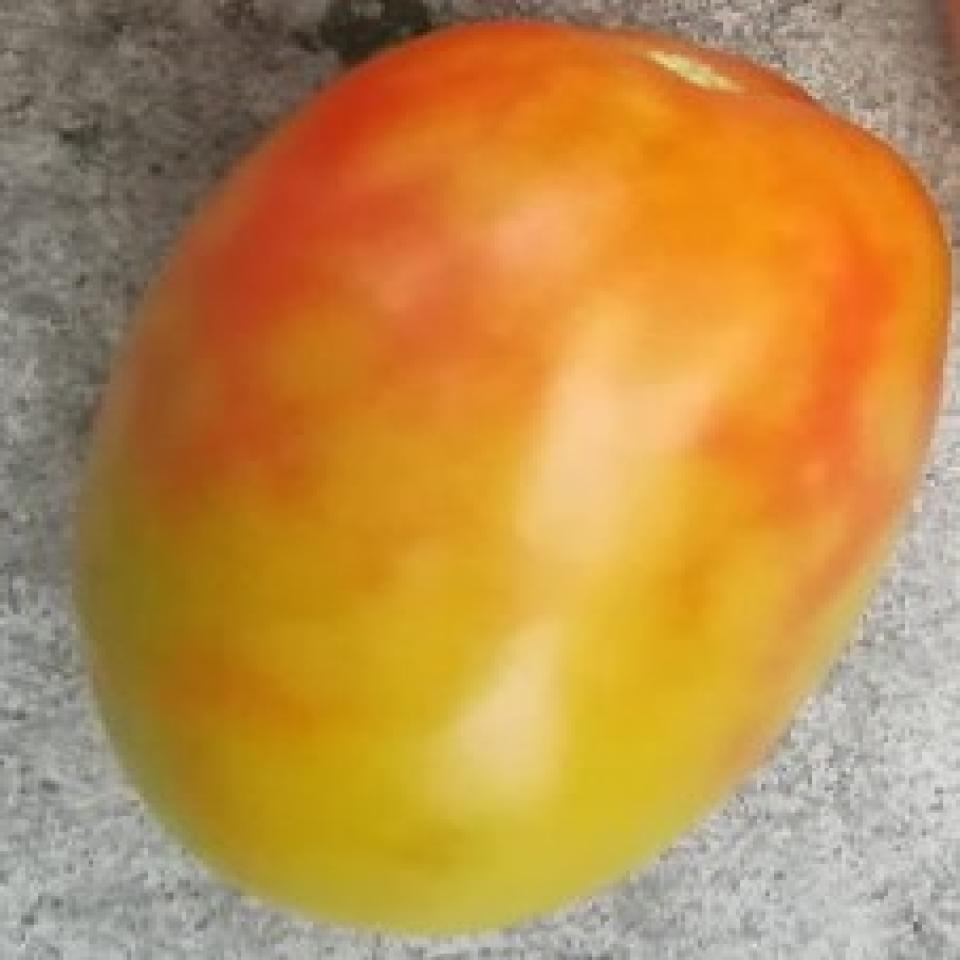Spotted wilt Virus: (72, 22, 952, 938)
